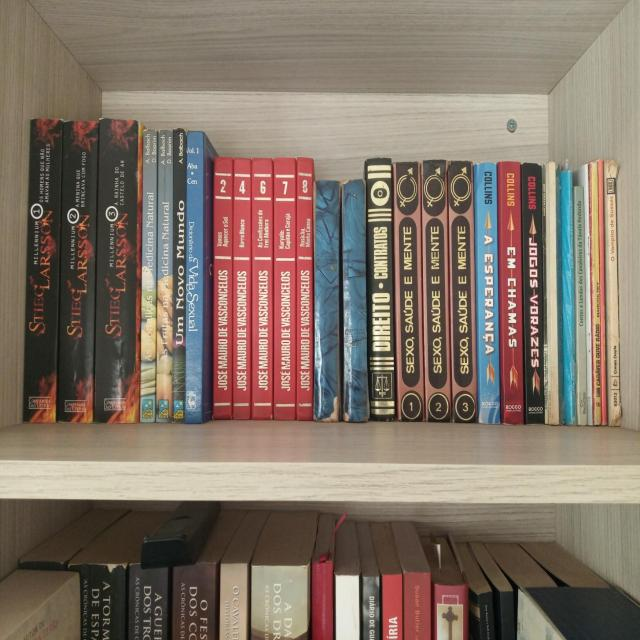book: (99, 117, 134, 422), (27, 123, 53, 423), (369, 159, 392, 415), (252, 160, 271, 417), (399, 162, 418, 415), (425, 159, 444, 412), (455, 164, 474, 416), (501, 166, 519, 419), (344, 190, 364, 417), (481, 167, 499, 419), (276, 160, 293, 417), (316, 185, 335, 412), (524, 165, 540, 419), (187, 131, 201, 418), (214, 160, 229, 414), (139, 130, 152, 418), (156, 131, 169, 418), (298, 162, 310, 416), (174, 134, 184, 416), (564, 178, 572, 425), (609, 161, 616, 421), (549, 164, 555, 421)
